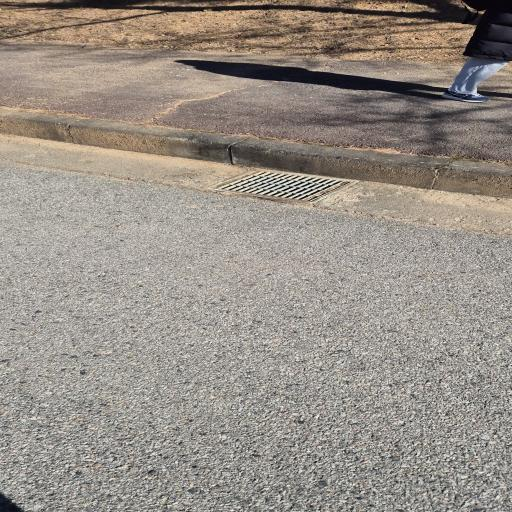drain: (211, 170, 355, 202)
